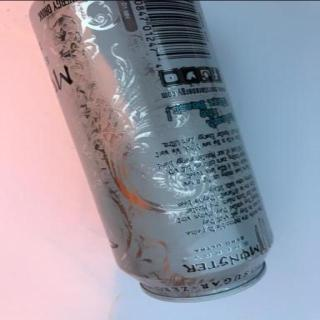Anorganik: (27, 0, 269, 303)
